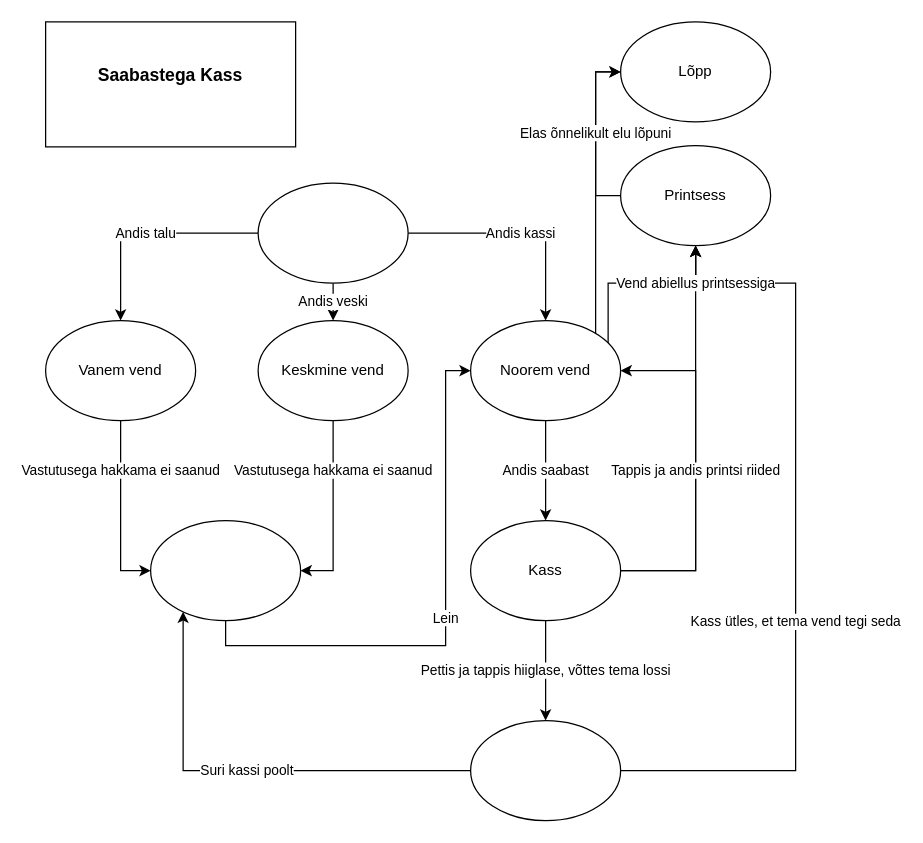
The diagram is 923 pixels wide and 843 high, and some of its shapes have lost their labels. Each missing label, with the centre of its shape:
"Hiiglane" belongs at point (545, 770).
"Isa" belongs at point (332, 232).
"Surnud" belongs at point (225, 570).
